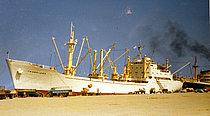Ship: (3, 20, 187, 97)
